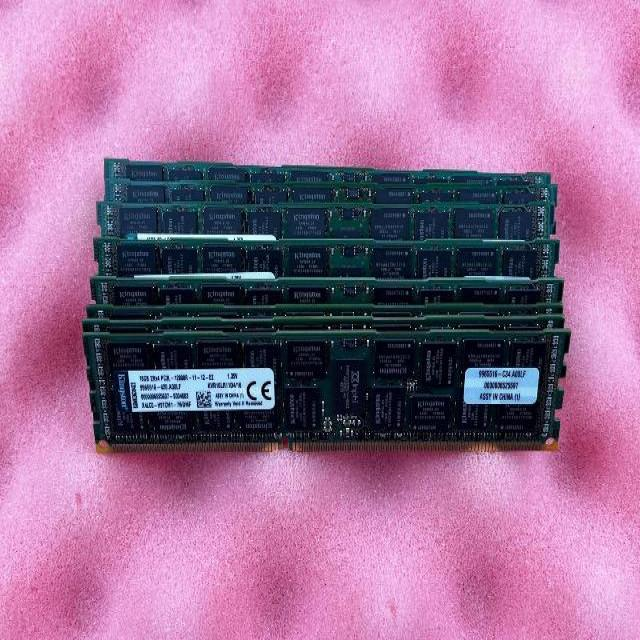RAM: (80, 327, 572, 457), (91, 233, 562, 276), (94, 198, 558, 238), (87, 275, 566, 301)
